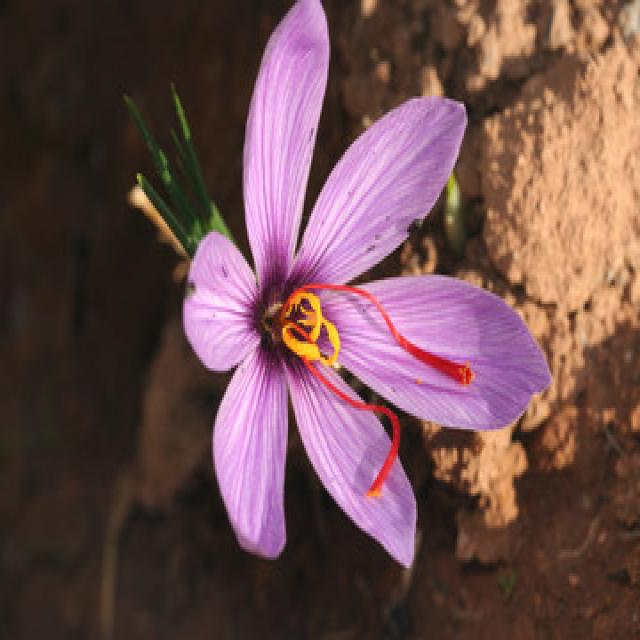saffron open: (185, 2, 550, 565)
